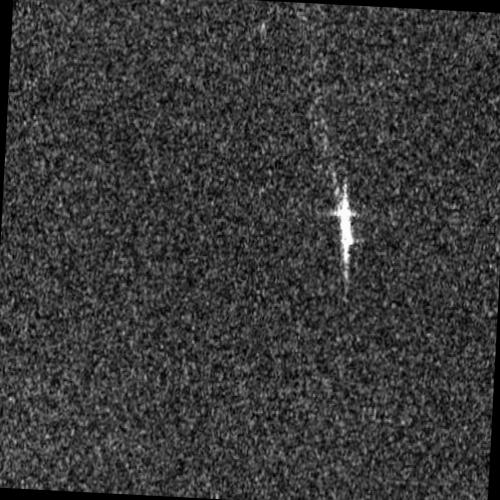ship: (338, 191, 354, 261)
